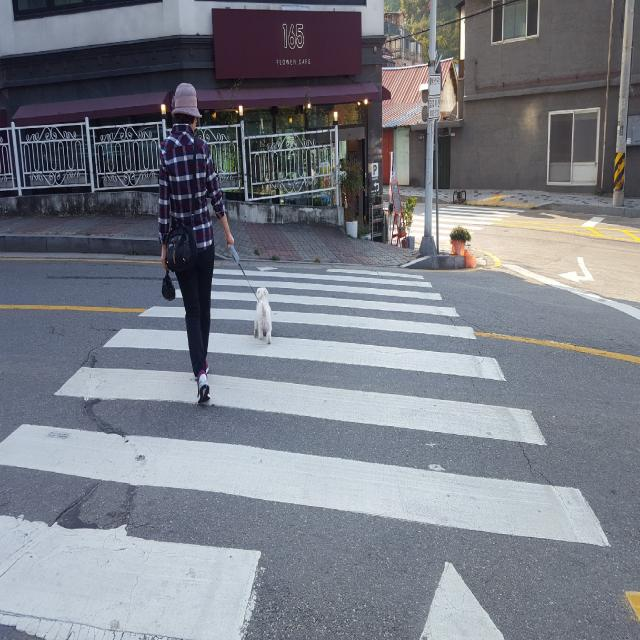횡단보도: (0, 263, 610, 639), (397, 203, 528, 248)
